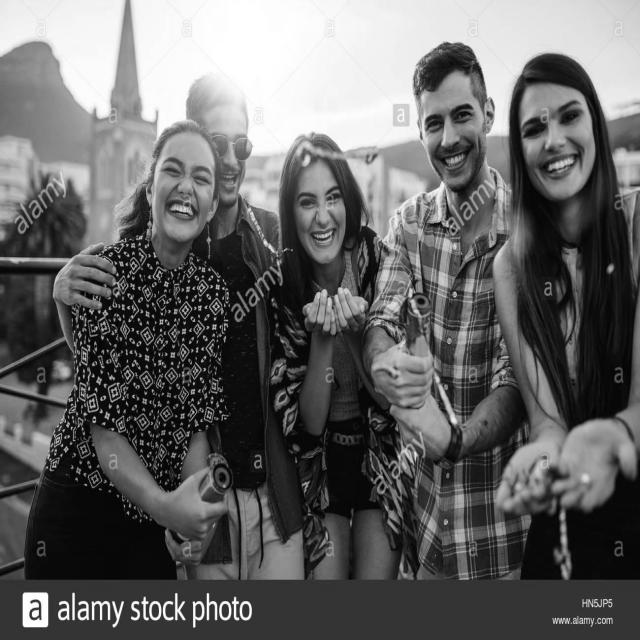person: (25, 115, 254, 575), (374, 38, 535, 574), (489, 29, 640, 574), (259, 155, 396, 569), (183, 68, 290, 327)
